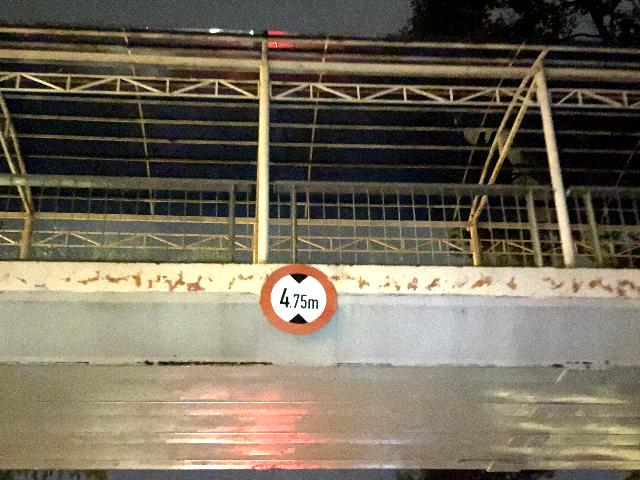han-che-chieu-cao: (260, 263, 337, 335)
